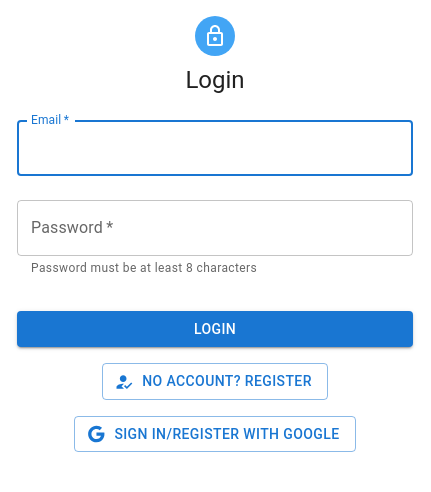
Login › email validation › should show error for invalid email format
Type "invalid-email" into the field labelled "Email *". click: coordinates (215, 148)
box: [17, 120, 413, 176]
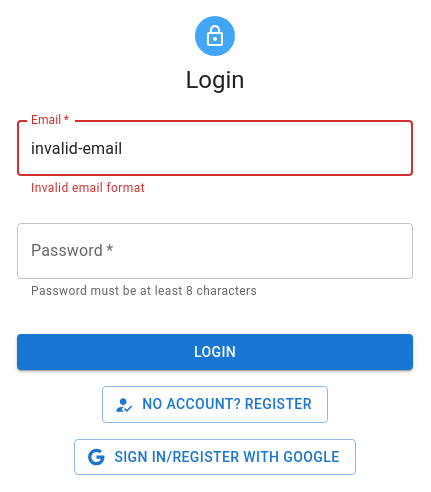
expect the text "Invalid email format" is shown: met, box [31, 181, 145, 195]
